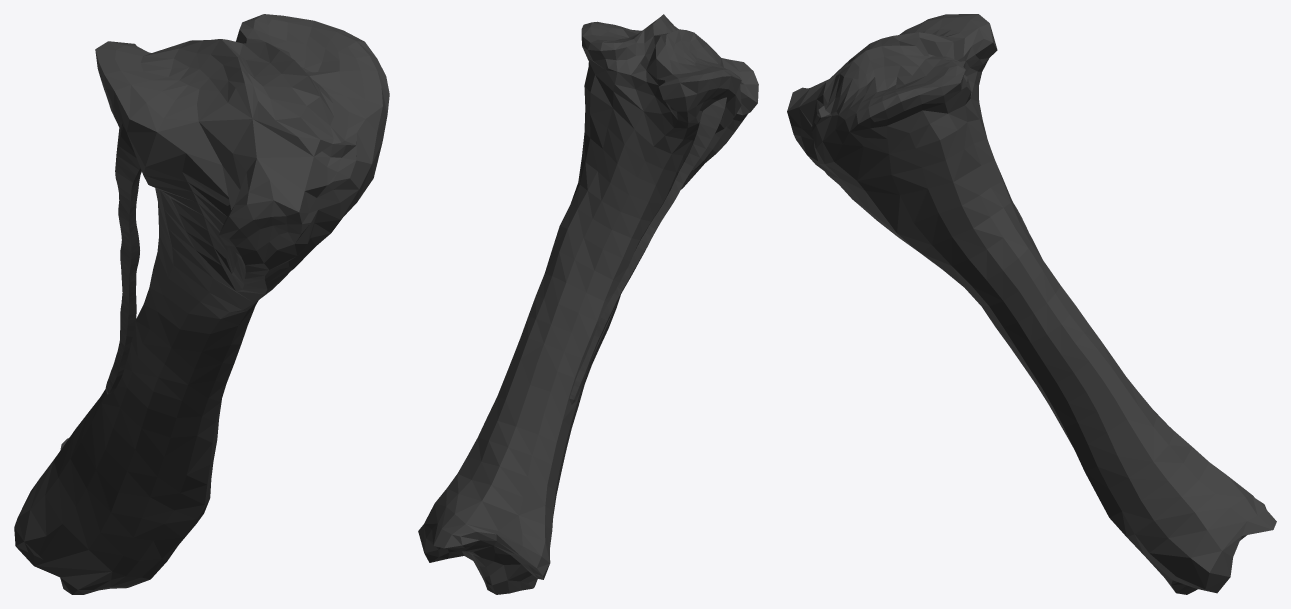
The model's file is Tibia_R.glb.
3 renders of one model, left to right at view 1: azimuth 30°, elevation 25°; view 2: azimuth 150°, elevation 25°; view 3: azimuth 270°, elevation 25°, orthographic. The views are drawn at different scales.
Parts seen in each view (by area): view 1: Tibia_R; view 2: Tibia_R; view 3: Tibia_R.
Boxes of the visible parts, left/top/right/bottom form: Tibia_R: left=14, top=14, right=389, bottom=594; Tibia_R: left=418, top=14, right=758, bottom=594; Tibia_R: left=787, top=14, right=1276, bottom=594.
Bounding box in the file's own units: 0.1962 × 0.4817 × 0.4021.
Materials: 1 (1 with a texture image).
